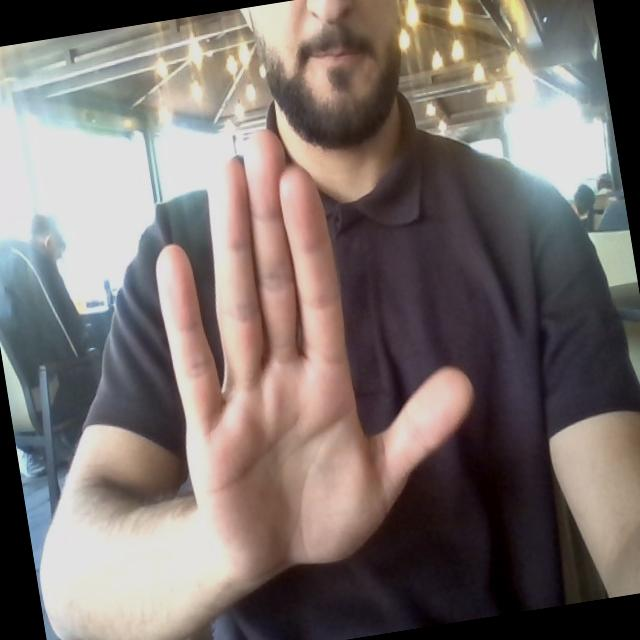Hand: (157, 132, 471, 588)
